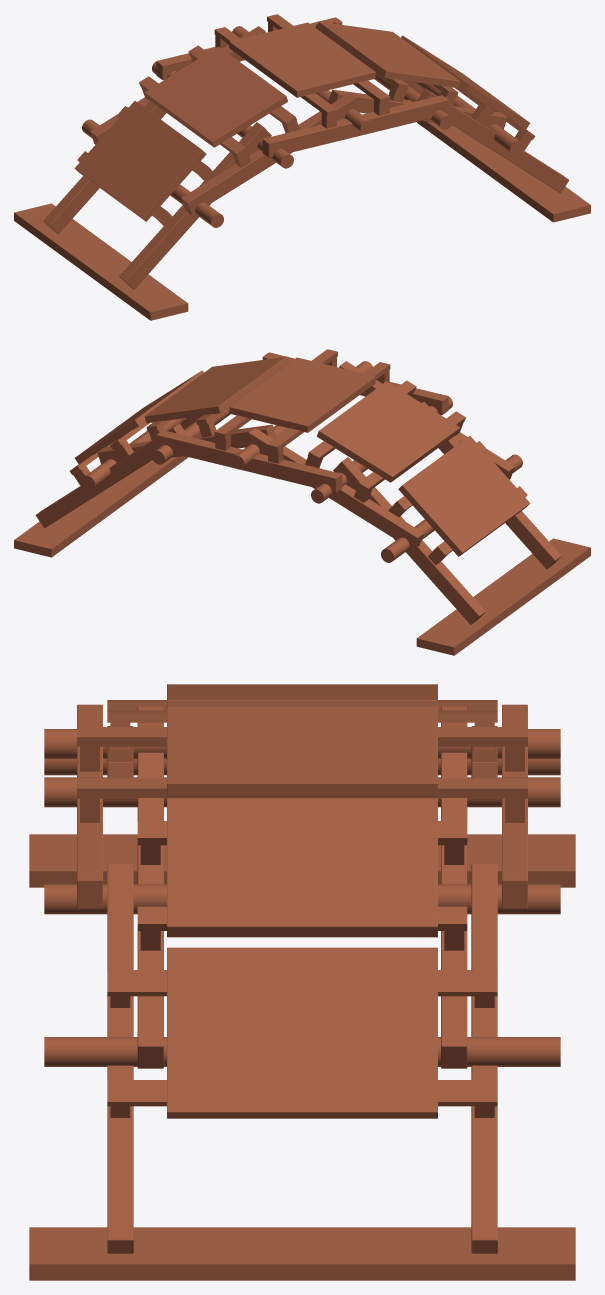
The model's file is bridge_v2_final.glb.
The picture shows the model from 3 angles, top to bottom: view 1: azimuth 30°, elevation 25°; view 2: azimuth 150°, elevation 25°; view 3: azimuth 270°, elevation 25°; orthographic projection. The views are drawn at different scales.
Parts seen in each view (by area): view 1: Deck_panel_02, Deck_panel_01, Deck_panel_03, Base_Left, Deck_panel_04, Base_Right, Beam_Front_03, Beam_Front_01, Beam_Front_02, Beam_Front_05, Deck_panel_05, Beam_Back_01 (+8 smaller); view 2: Deck_panel_02, Deck_panel_01, Deck_panel_03, Base_Left, Deck_panel_04, Base_Right, Beam_Back_03, Beam_Back_01, Beam_Back_02, Beam_Back_05, Deck_panel_05, Beam_Front_01 (+8 smaller); view 3: Deck_panel_05, Deck_panel_04, Deck_panel_03, Base_Right, Deck_panel_02, Beam_Front_05, Beam_Back_05, Base_Left, Cross_rod_05, Beam_Front_04, Beam_Back_04, Cross_rod_04 (+7 smaller).
Part boxes in pixels (bbox=[...]): Deck_panel_02: bbox=[139, 45, 299, 167]; Deck_panel_01: bbox=[74, 101, 216, 230]; Deck_panel_03: bbox=[214, 14, 390, 128]; Base_Left: bbox=[14, 203, 188, 320]; Deck_panel_04: bbox=[315, 21, 460, 105]; Base_Right: bbox=[416, 121, 590, 222]; Beam_Front_03: bbox=[262, 95, 448, 157]; Beam_Front_01: bbox=[119, 122, 271, 289]; Beam_Front_02: bbox=[181, 93, 360, 214]; Beam_Front_05: bbox=[417, 88, 569, 193]; Deck_panel_05: bbox=[401, 35, 535, 150]; Beam_Back_01: bbox=[43, 66, 182, 234]; Deck_panel_02: bbox=[305, 380, 465, 502]; Deck_panel_01: bbox=[388, 436, 530, 565]; Deck_panel_03: bbox=[214, 349, 390, 463]; Base_Left: bbox=[416, 538, 590, 655]; Deck_panel_04: bbox=[144, 356, 289, 440]; Base_Right: bbox=[14, 456, 188, 557]; Beam_Back_03: bbox=[156, 430, 342, 492]; Beam_Back_01: bbox=[333, 457, 485, 624]; Beam_Back_02: bbox=[244, 428, 423, 549]; Beam_Back_05: bbox=[35, 423, 187, 528]; Deck_panel_05: bbox=[69, 370, 203, 485]; Beam_Front_01: bbox=[422, 401, 561, 569]; Deck_panel_05: bbox=[107, 947, 497, 1118]; Deck_panel_04: bbox=[137, 798, 467, 950]; Deck_panel_03: bbox=[77, 706, 527, 822]; Base_Right: bbox=[29, 1227, 575, 1280]; Deck_panel_02: bbox=[107, 684, 497, 750]; Beam_Front_05: bbox=[107, 864, 133, 1253]; Beam_Back_05: bbox=[471, 864, 497, 1253]; Base_Left: bbox=[29, 834, 575, 887]; Cross_rod_05: bbox=[44, 1037, 560, 1066]; Beam_Front_04: bbox=[137, 752, 163, 1068]; Beam_Back_04: bbox=[441, 752, 467, 1068]; Cross_rod_04: bbox=[44, 884, 560, 914].
Size of the model in its own units: 0.5025 by 0.1749 by 0.27.
